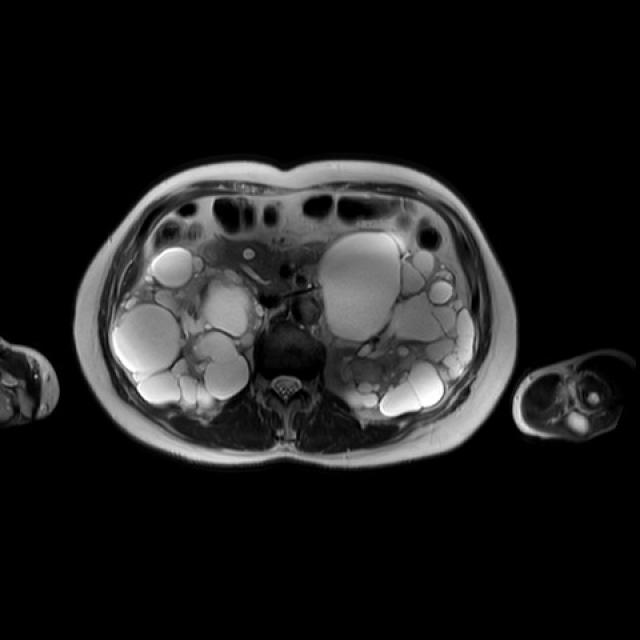sag: (110, 246, 267, 412)
sol: (319, 230, 479, 419)
